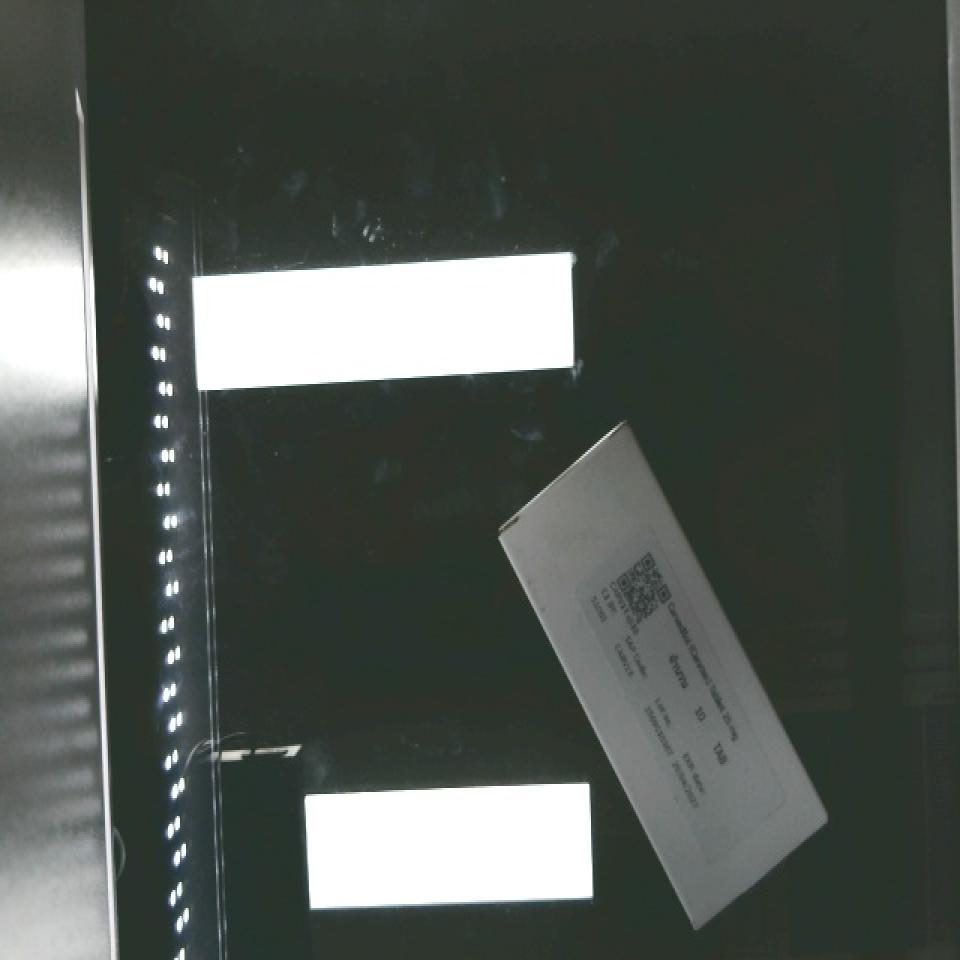medicine_box: (474, 424, 842, 926)
qr_code: (593, 538, 687, 640)
